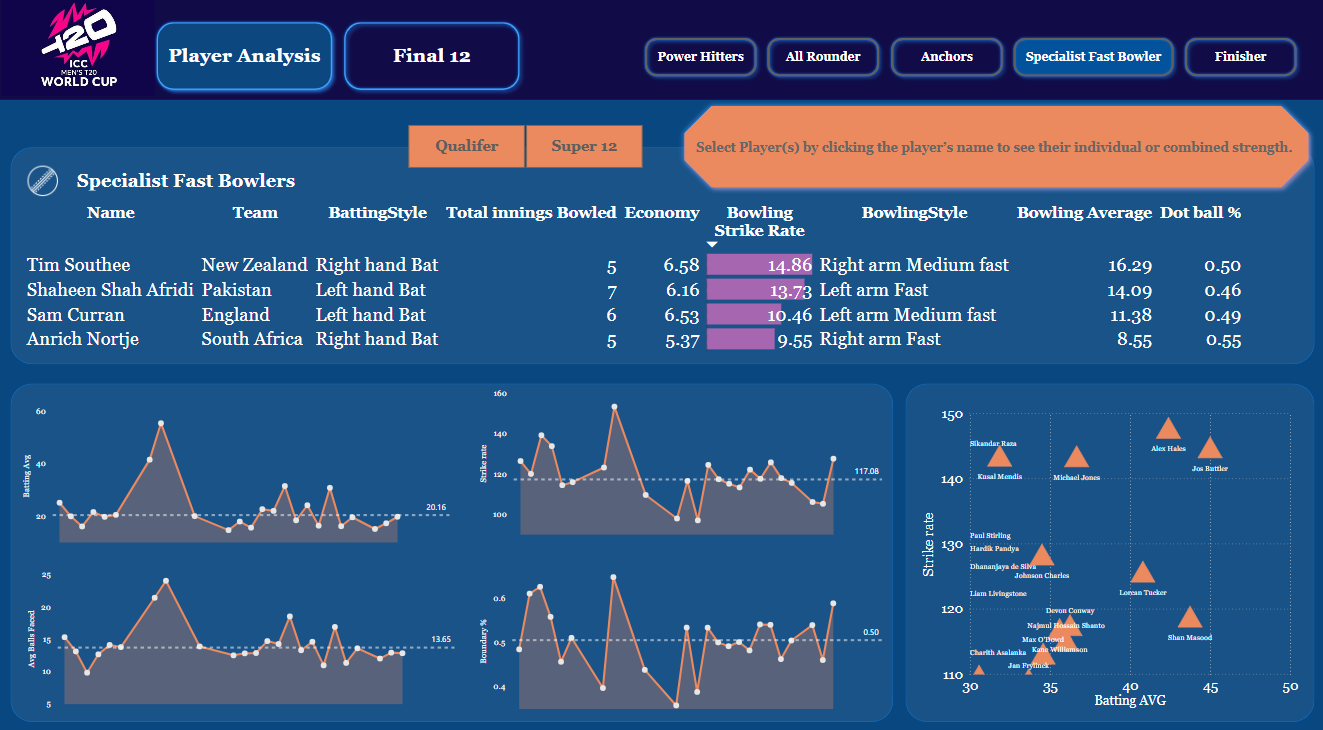

Layout of this report page (visuals, bound fields, positions):
{"tool":"powerbi","page":{"name":"Specialist Fast Bowlers","canvas":[1920,1080],"ordinal":4},"visuals":[{"type":"shape","box":[0,158,1920,922],"z":0},{"type":"shape","box":[18,568,1278,490],"z":1000},{"type":"shape","box":[1314,568,592,490],"z":2000},{"type":"shape","box":[18,226,1888,314],"z":3000},{"type":"image","box":[0,0,232.1,157.3],"z":4000},{"type":"slicer","fields":{"Values":["dim_match_summary.stage"]},"box":[574,192,378,66],"z":5000},{"type":"shape","box":[92,236,360,76],"z":6000},{"type":"scatterChart","fields":{"X":["Key measures.Batting Avg"],"Y":["Key measures.Strike rate"],"Category":["dim_players.name"]},"box":[1332,594,556,450],"z":7000},{"type":"shape","box":[984,158,922,136],"z":8000},{"type":"cardVisual","fields":{"Data":["Key measures.Batting Avg"]},"box":[1474,158,156,136],"z":9000},{"type":"cardVisual","fields":{"Data":["Key measures.Strike rate"]},"box":[1608,166,144,124],"z":10000},{"type":"cardVisual","fields":{"Data":["Key measures.Boundary %"]},"box":[1732,172,174,110],"z":11000},{"type":"cardVisual","fields":{"Data":["Key measures.Average Balls Faced"]},"box":[1296,160,230,136],"z":12000},{"type":"shape","box":[960,190,340,76],"z":13000},{"type":"actionButton","box":[1462,60,248,72],"z":14000},{"type":"areaChart","fields":{"Y":["Key measures.Batting Avg"],"Category":["dim_match_summary.matchDate.Variation.Date Hierarchy.Day"]},"box":[30,594,628,210],"z":15000},{"type":"areaChart","fields":{"Category":["dim_match_summary.matchDate.Variation.Date Hierarchy.Day"]},"box":[694,646,564,184],"z":16000},{"type":"areaChart","fields":{"Y":["Key measures.Strike rate"],"Category":["dim_match_summary.matchDate.Variation.Date Hierarchy.Day"]},"box":[694,568,592,224],"z":17000},{"type":"areaChart","fields":{"Y":["Key measures.Avg Balls Faced"],"Category":["dim_match_summary.matchDate.Variation.Date Hierarchy.Day"]},"box":[38,830,628,214],"z":18000},{"type":"areaChart","fields":{"Y":["Key measures.Boundary %"],"Category":["dim_match_summary.matchDate.Variation.Date Hierarchy.Day"]},"box":[694,830,592,214],"z":19000},{"type":"actionButton","box":[1284,60,178,72],"z":20000},{"type":"actionButton","box":[1710,60,178,72],"z":21000},{"type":"actionButton","box":[928,60,178,72],"z":22000},{"type":"actionButton","box":[1106,60,178,72],"z":23000},{"type":"actionButton","box":[220,36,272,116],"z":24000},{"type":"actionButton","box":[492,36,272,116],"z":25000},{"type":"tableEx","fields":{"Values":["dim_players.Name","dim_players.Team","dim_players.BattingStyle","Key measures.Total innings Bowled","Key measures.Economy","Key measures.Bowling Strike Rate","dim_players.BowlingStyle","Key measures.Bowling Average","Key measures.Dot ball %"]},"box":[30,300,1876,240],"z":26000},{"type":"image","box":[38,242,54,64],"z":27000},{"type":"shape","box":[975.4,206.3,933.8,41.6],"z":28000}]}

Visuals, with their boxes in screenshot pixels (x1, y1, x2, y2), scaled from the page's 1920x1080 canvas onto the 1323x730 screenshot:
shape: left=0, top=107, right=1322, bottom=729
shape: left=12, top=384, right=893, bottom=715
shape: left=905, top=384, right=1313, bottom=715
shape: left=12, top=153, right=1313, bottom=365
image: left=0, top=0, right=160, bottom=106
slicer - dim_match_summary.stage: left=396, top=130, right=656, bottom=174
shape: left=63, top=160, right=311, bottom=211
scatterChart - Key measures.Batting Avg x Key measures.Strike rate: left=918, top=402, right=1301, bottom=706
shape: left=678, top=107, right=1313, bottom=199
cardVisual - Key measures.Batting Avg: left=1016, top=107, right=1123, bottom=199
cardVisual - Key measures.Strike rate: left=1108, top=112, right=1207, bottom=196
cardVisual - Key measures.Boundary %: left=1193, top=116, right=1313, bottom=191
cardVisual - Key measures.Average Balls Faced: left=893, top=108, right=1052, bottom=200
shape: left=662, top=128, right=896, bottom=180
actionButton: left=1007, top=41, right=1178, bottom=89
areaChart - Key measures.Batting Avg x dim_match_summary.matchDate.Variation.Date Hierarchy.Day: left=21, top=402, right=453, bottom=543
areaChart - dim_match_summary.matchDate.Variation.Date Hierarchy.Day: left=478, top=437, right=867, bottom=561
areaChart - Key measures.Strike rate x dim_match_summary.matchDate.Variation.Date Hierarchy.Day: left=478, top=384, right=886, bottom=535
areaChart - Key measures.Avg Balls Faced x dim_match_summary.matchDate.Variation.Date Hierarchy.Day: left=26, top=561, right=459, bottom=706
areaChart - Key measures.Boundary % x dim_match_summary.matchDate.Variation.Date Hierarchy.Day: left=478, top=561, right=886, bottom=706
actionButton: left=885, top=41, right=1007, bottom=89
actionButton: left=1178, top=41, right=1301, bottom=89
actionButton: left=639, top=41, right=762, bottom=89
actionButton: left=762, top=41, right=885, bottom=89
actionButton: left=152, top=24, right=339, bottom=103
actionButton: left=339, top=24, right=526, bottom=103
tableEx - dim_players.Name x dim_players.Team: left=21, top=203, right=1313, bottom=365
image: left=26, top=164, right=63, bottom=207
shape: left=672, top=139, right=1316, bottom=168
